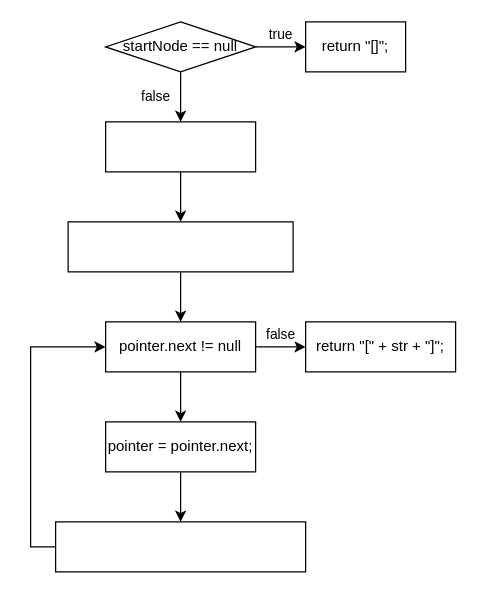
Some shapes in this 478 by 594 pixel diagram are drawn without their labels. Here are the shapes that lost their labels. From the top down, the box of each, then its label:
(104, 121, 256, 172): pointer = startNode
(67, 221, 293, 272): str = pointer.content.toString();
(54, 521, 306, 572): str += ", " + pointer.content.toString();
